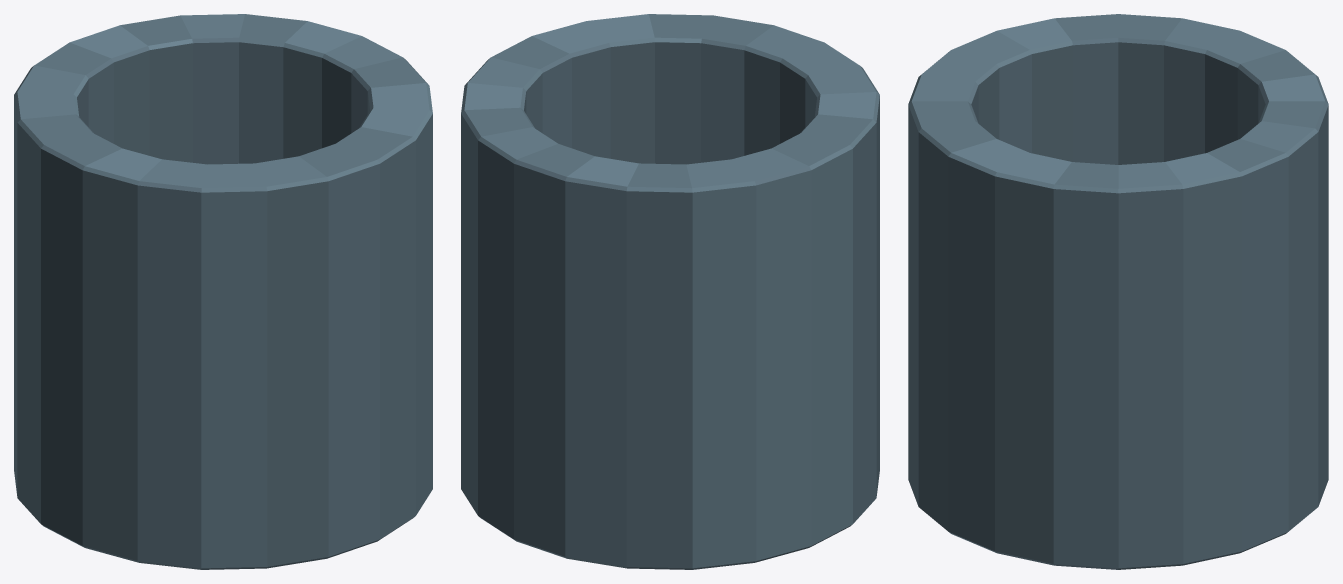
3 renders of one model, left to right at view 1: azimuth 30°, elevation 25°; view 2: azimuth 150°, elevation 25°; view 3: azimuth 270°, elevation 25°, orthographic.
Parts seen in each view (by area): view 1: P15_Tube; view 2: P15_Tube; view 3: P15_Tube.
Boxes of the visible parts, bbox=[...] form: P15_Tube: bbox=[14, 14, 432, 569]; P15_Tube: bbox=[461, 14, 879, 569]; P15_Tube: bbox=[908, 14, 1328, 569].
Bounding box in the file's own units: 1 × 1 × 1.
1 material, 1 textured.
